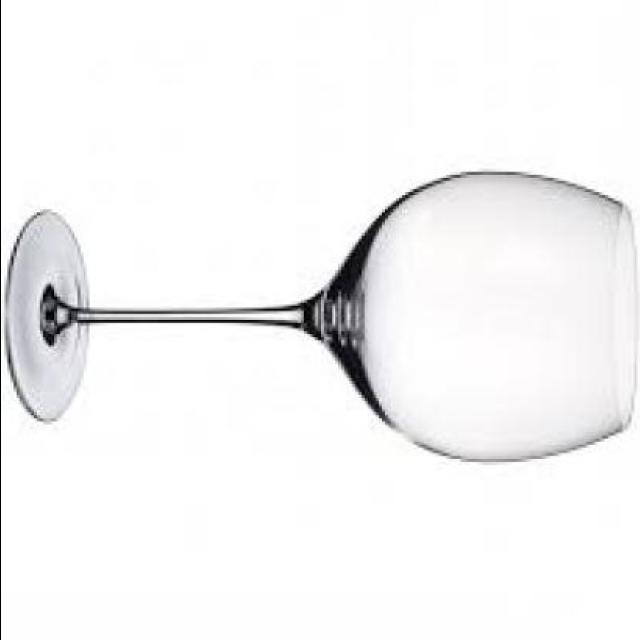kaca: (7, 172, 636, 466)
